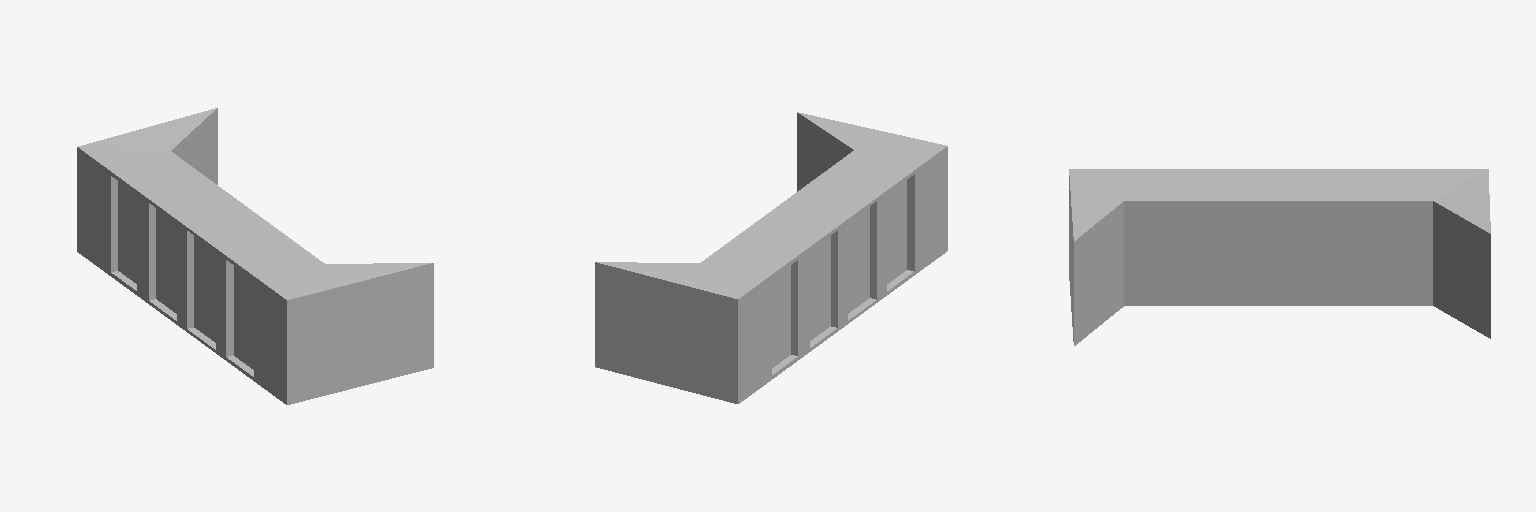
Rendered from bar1.obj.
3 views of the same model, side by side, from view 1: azimuth 30°, elevation 25°; view 2: azimuth 150°, elevation 25°; view 3: azimuth 270°, elevation 25° (orthographic).
Visible parts, largest first — view 1: Cube; view 2: Cube; view 3: Cube.
Part boxes in pixels (x1,y1,x2,y2): Cube: (77, 108, 433, 404); Cube: (595, 112, 947, 403); Cube: (1069, 169, 1490, 345).
Size of the model in its own units: 4.52 by 3.17 by 11.09.